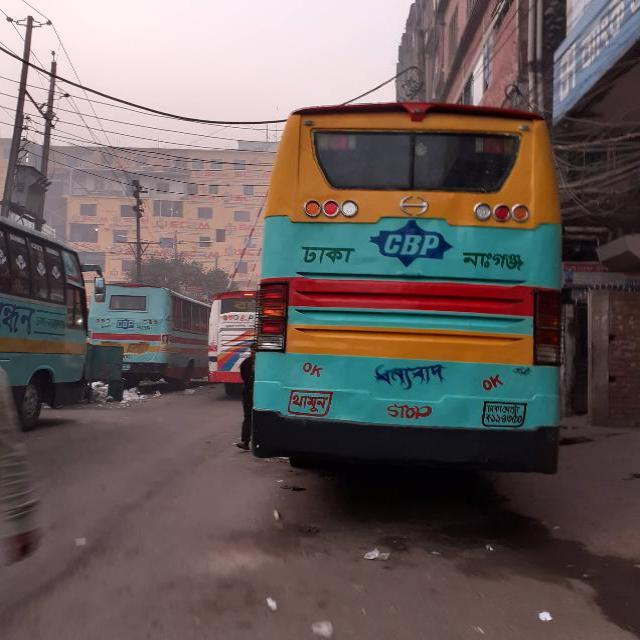bus: (247, 100, 561, 474), (0, 221, 90, 414), (88, 282, 207, 383), (205, 290, 257, 382)
